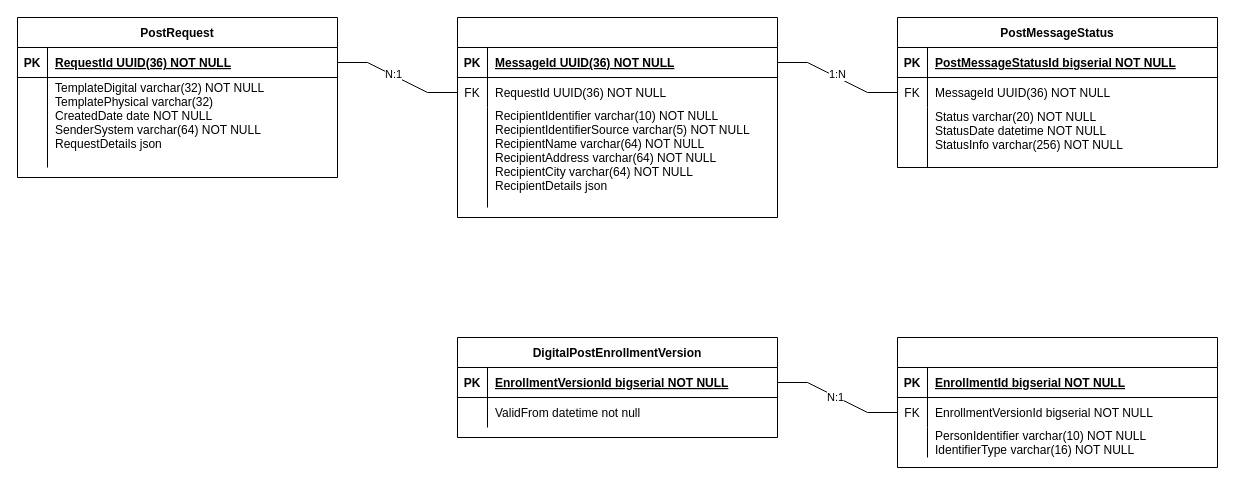
This 1235x485 diagram has some shape labels left out. The box of each missing label's shape, as (x1, y1, x2, y2) in pixels:
DigitalPostEnrollment: (896, 336, 1218, 468)
PostMessage: (456, 16, 778, 218)
